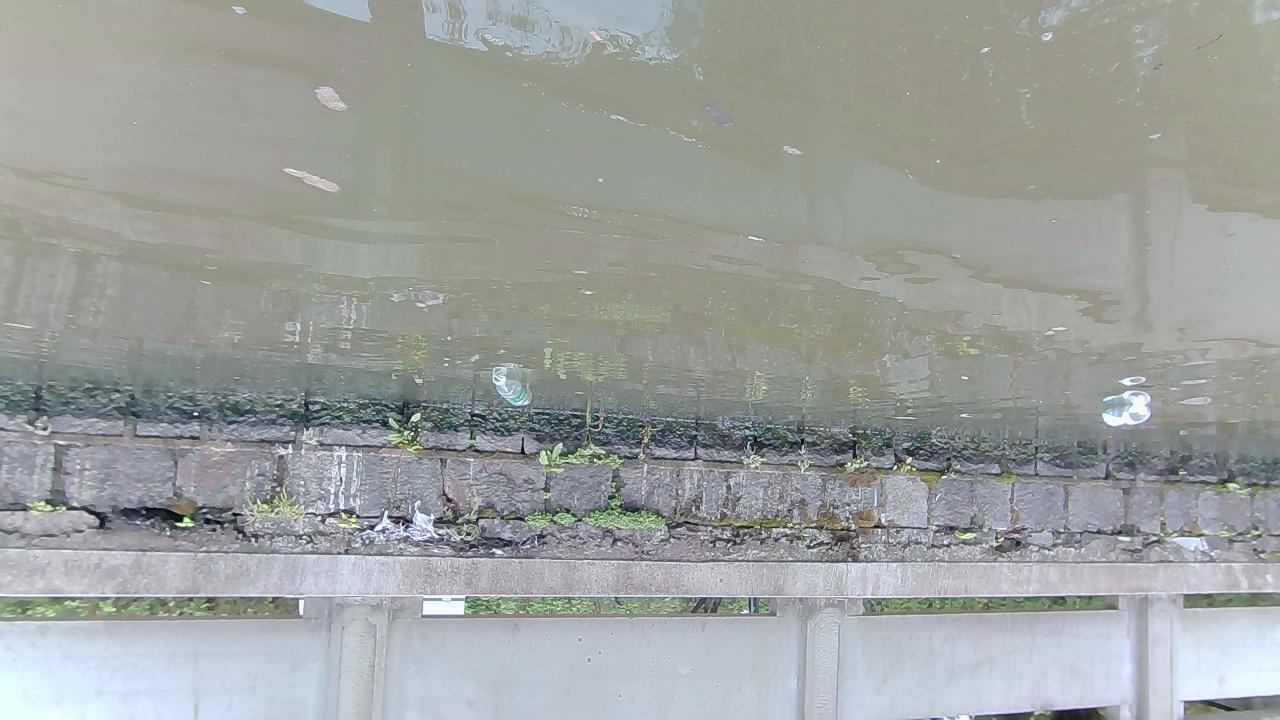Metal: (1101, 402, 1153, 427)
Plastic: (491, 374, 533, 407)
